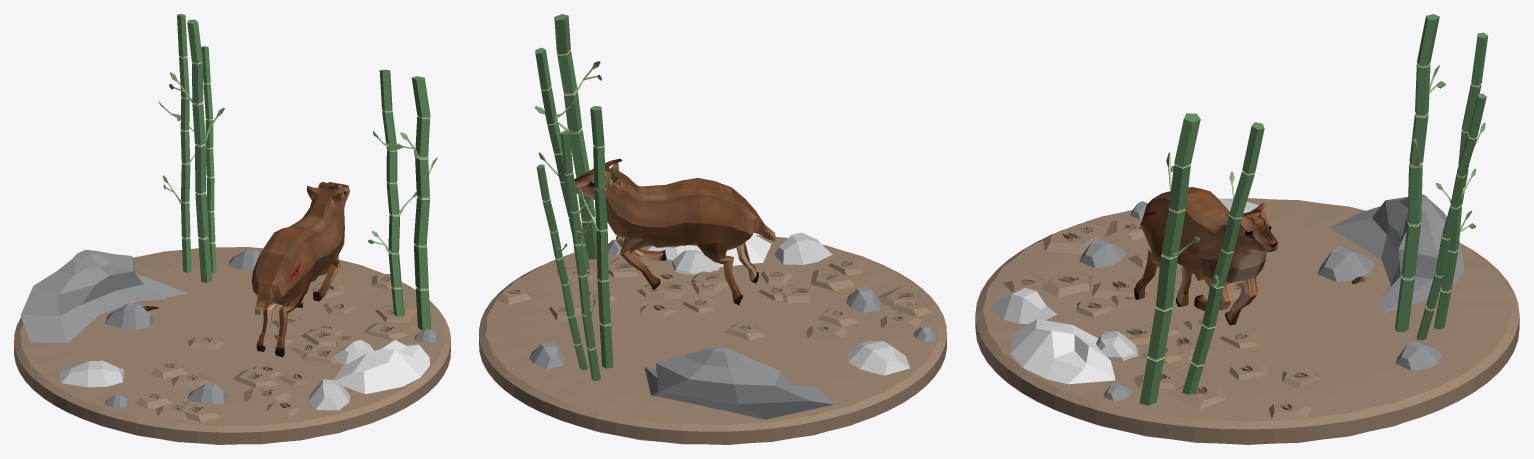
File: stone.fbx
3 views of the same model, side by side, from view 1: azimuth 30°, elevation 25°; view 2: azimuth 150°, elevation 25°; view 3: azimuth 270°, elevation 25° (orthographic). The views are drawn at different scales.
Parts seen in each view (by area): view 1: Cylinder.018, Object_1, Cube, Cylinder.001, Cube.004, Cylinder.008, Cylinder.004, Cylinder.011, Cylinder.015, Cube.005, Cube.001, Cube.009 (+15 smaller); view 2: Cylinder.018, Object_1, Cube, Cylinder.001, Cylinder.008, Cylinder.011, Cylinder.015, Cylinder.004, Cube.005, Cube.001, Cube.004, Cube.008 (+13 smaller); view 3: Cylinder.018, Object_1, Cube, Cylinder.001, Cube.004, Cylinder.008, Cylinder.004, Cylinder.015, Cylinder.011, Cube.001, Cube.009, Object_3.008 (+11 smaller).
Part boxes in pixels (x1,y1,x2,y2): Cylinder.018: [14, 247, 450, 444]; Object_1: [251, 181, 349, 357]; Cube: [20, 250, 187, 342]; Cylinder.001: [411, 76, 430, 330]; Cube.004: [334, 340, 429, 394]; Cylinder.008: [187, 19, 212, 282]; Cylinder.004: [379, 69, 404, 316]; Cylinder.011: [177, 14, 191, 272]; Cylinder.015: [201, 46, 216, 273]; Cube.005: [59, 360, 123, 387]; Cube.001: [308, 379, 350, 410]; Cube.009: [104, 303, 154, 329]; Cylinder.018: [479, 235, 946, 444]; Object_1: [574, 158, 775, 305]; Cube: [644, 347, 834, 419]; Cylinder.001: [554, 14, 596, 259]; Cylinder.008: [590, 106, 613, 368]; Cylinder.011: [560, 130, 600, 380]; Cylinder.015: [536, 164, 587, 370]; Cylinder.004: [535, 47, 590, 270]; Cube.005: [846, 341, 909, 375]; Cube.001: [774, 232, 832, 264]; Cube.004: [644, 234, 771, 266]; Cube.008: [672, 250, 720, 274]; Cylinder.018: [975, 198, 1519, 444]; Object_1: [1134, 187, 1278, 325]; Cube: [1330, 194, 1464, 313]; Cylinder.001: [1139, 113, 1200, 405]; Cube.004: [1010, 319, 1115, 384]; Cylinder.008: [1395, 14, 1439, 332]; Cylinder.004: [1182, 122, 1264, 394]; Cylinder.015: [1417, 93, 1486, 340]; Cylinder.011: [1434, 32, 1487, 329]; Cube.001: [989, 288, 1056, 323]; Cube.009: [1318, 246, 1375, 282]; Object_3.008: [1043, 228, 1096, 254].
Bounding box in the file's own units: 640 × 441 × 640.
